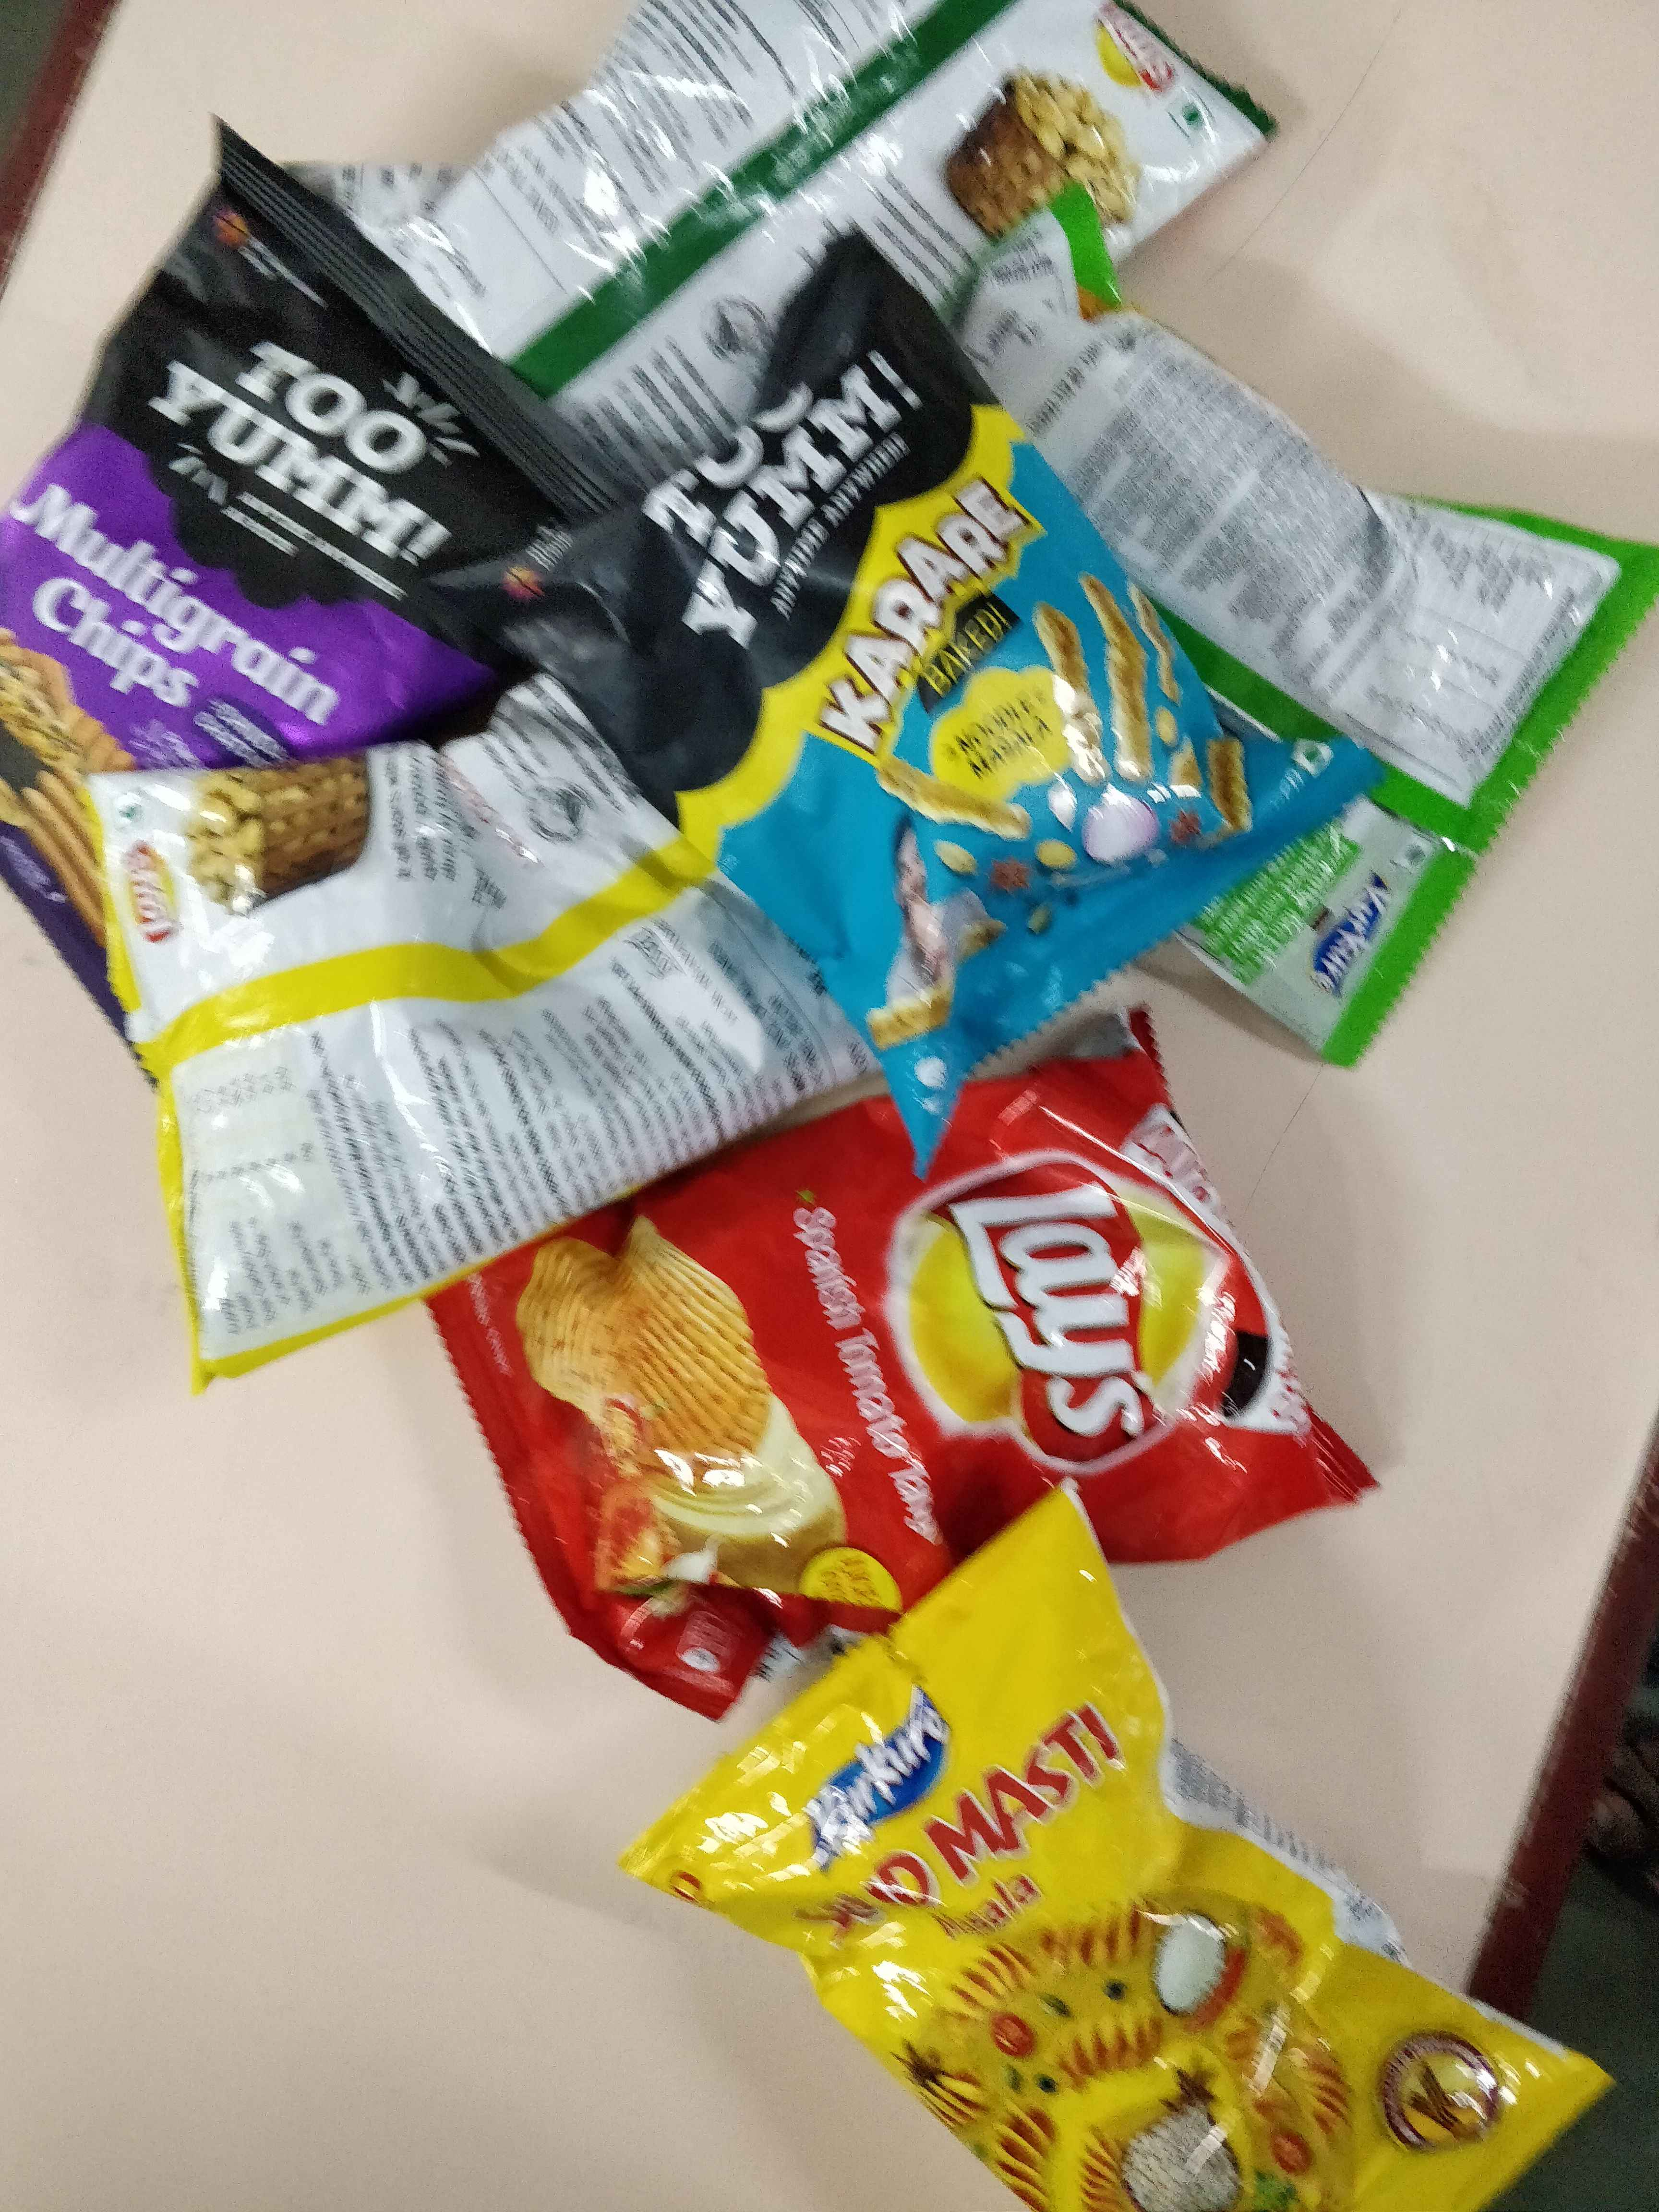Lays: (868, 1125, 1262, 1491), (1087, 0, 1180, 131), (134, 819, 206, 974)
kurkure: (798, 1684, 957, 1869), (1303, 850, 1406, 1012)
tooyumm: (634, 326, 936, 693), (134, 308, 469, 570)
